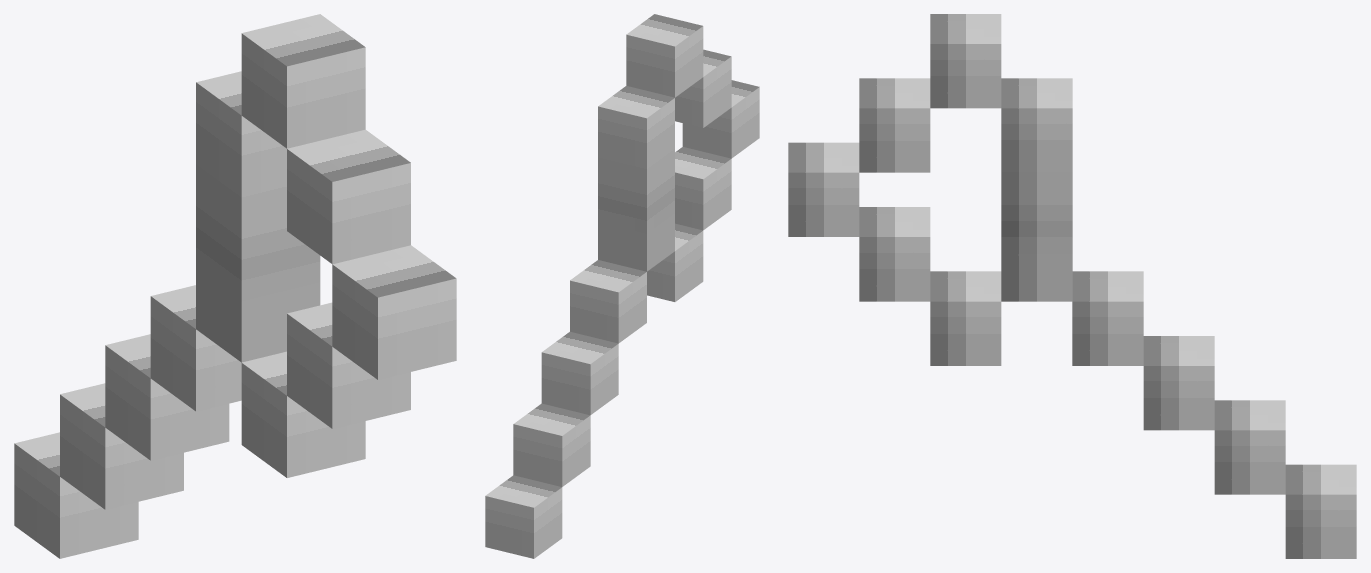
Rendered from trwowableaxe.obj.
The picture shows the model from 3 angles, left to right: view 1: azimuth 30°, elevation 25°; view 2: azimuth 150°, elevation 25°; view 3: azimuth 270°, elevation 25°; orthographic projection. The views are drawn at different scales.
Parts seen in each view (by area): view 1: cube; view 2: cube; view 3: cube.
Boxes of the visible parts, x1,y1,x2,y2 form: cube: (14, 14, 456, 558); cube: (485, 14, 759, 558); cube: (788, 14, 1356, 558).
Size of the model in its own units: 0.0625 by 0.5 by 0.5.
